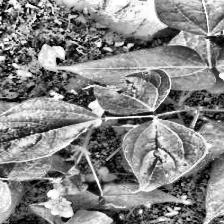ALS: (126, 119, 197, 192), (88, 68, 174, 113)
